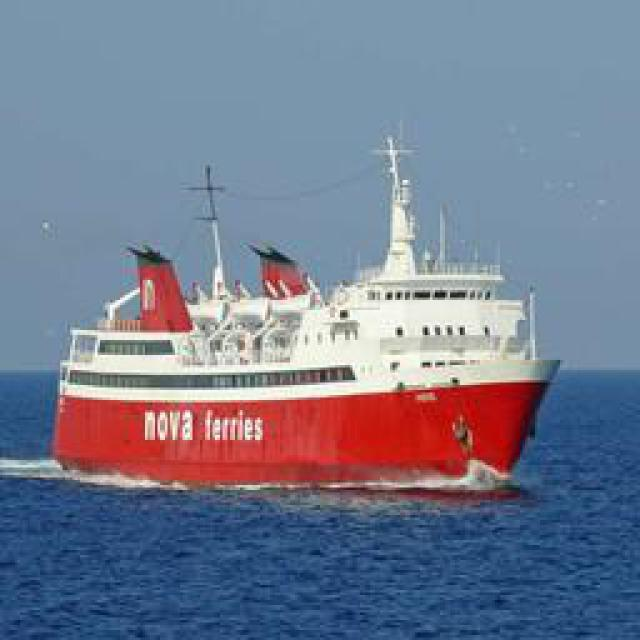Ship: (60, 132, 553, 495)
